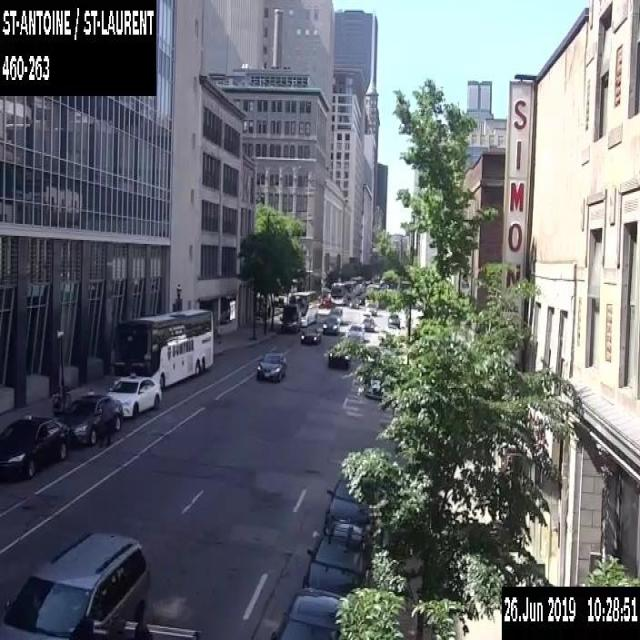bus: (114, 307, 214, 390), (288, 290, 317, 326), (329, 281, 346, 304), (342, 280, 356, 300), (351, 276, 364, 294)
vehicle: (0, 528, 151, 639), (302, 518, 370, 597), (0, 411, 71, 477), (272, 586, 346, 639), (70, 613, 201, 639), (61, 394, 123, 444), (323, 476, 372, 532), (106, 372, 161, 418), (256, 351, 286, 380), (280, 303, 300, 331), (366, 378, 384, 399), (300, 326, 321, 343), (328, 351, 349, 367), (347, 321, 364, 340), (322, 316, 339, 334), (328, 306, 342, 324), (387, 313, 400, 327), (318, 297, 334, 308), (362, 316, 374, 330), (365, 302, 377, 314), (348, 297, 358, 308), (354, 295, 362, 304)
